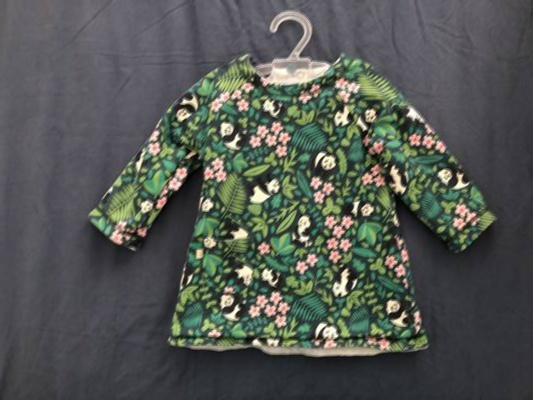Dress: (85, 32, 505, 369)
